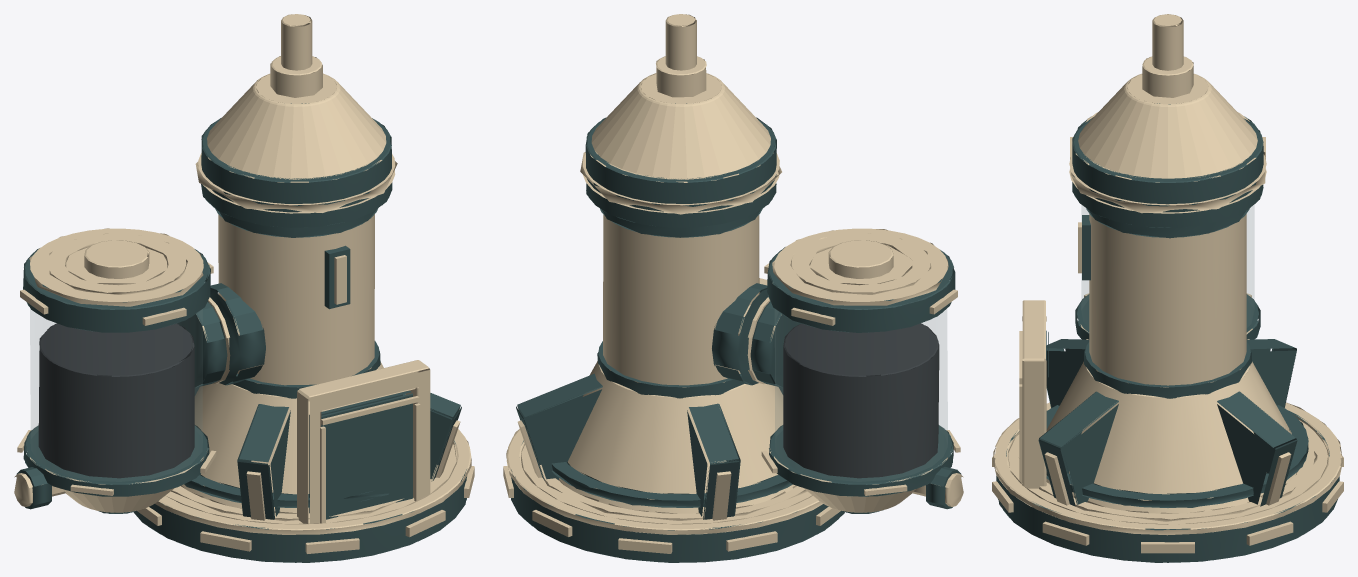
File: Vat_T1_lab2.glb
The picture shows the model from 3 angles, left to right: view 1: azimuth 30°, elevation 25°; view 2: azimuth 150°, elevation 25°; view 3: azimuth 270°, elevation 25°; orthographic projection.
Parts seen in each view (by area): view 1: Vat_T1; view 2: Vat_T1; view 3: Vat_T1.
Part boxes in pixels (x1=…): Vat_T1: x1=14, y1=14, x2=474, y2=562; Vat_T1: x1=503, y1=14, x2=963, y2=562; Vat_T1: x1=992, y1=14, x2=1343, y2=562.
Bounding box in the file's own units: 4.88 × 5.21 × 3.47.
